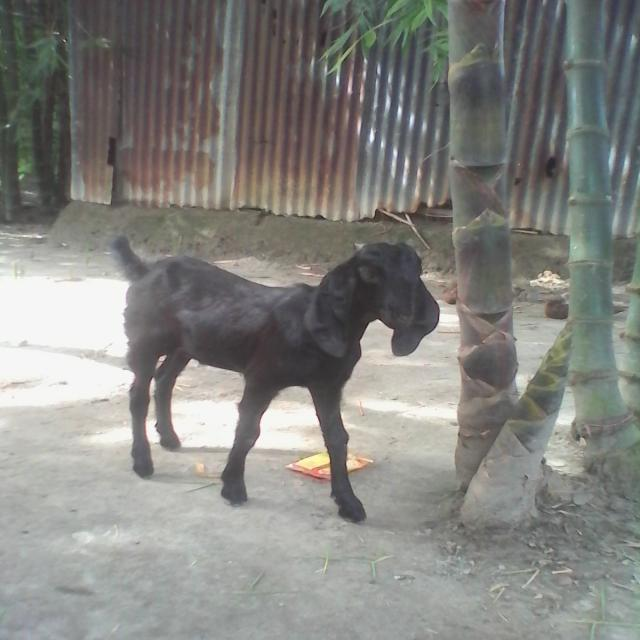Goat: (110, 234, 441, 524)
